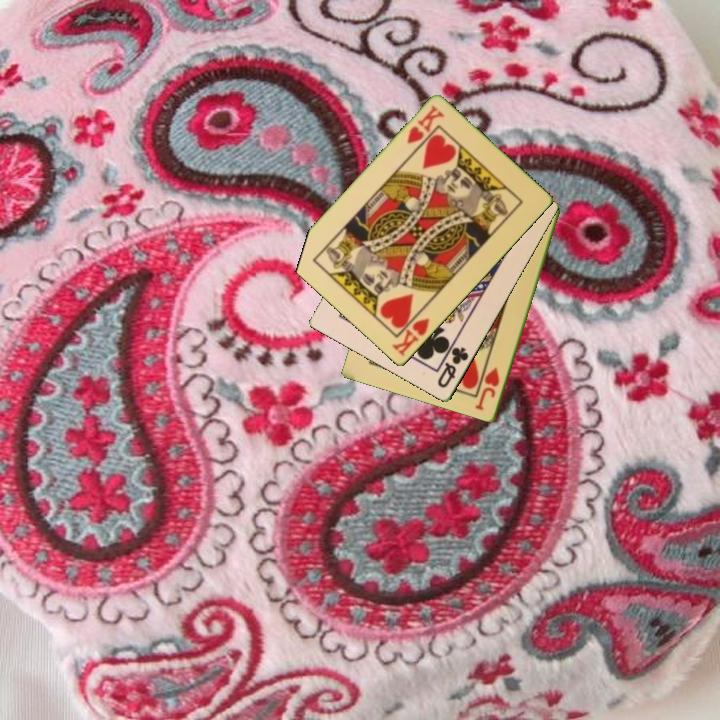Jh: (472, 365, 503, 414)
Kh: (388, 306, 433, 359), (403, 102, 447, 147)
Qc: (434, 344, 472, 392)
